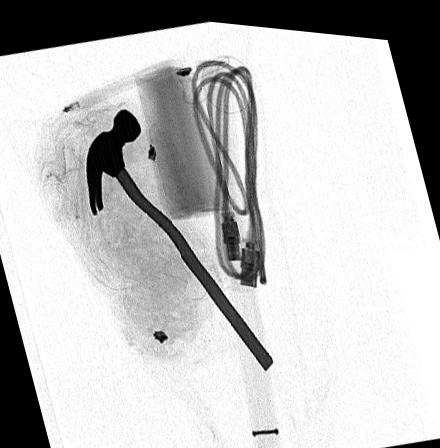Hammer: (86, 104, 275, 366)
